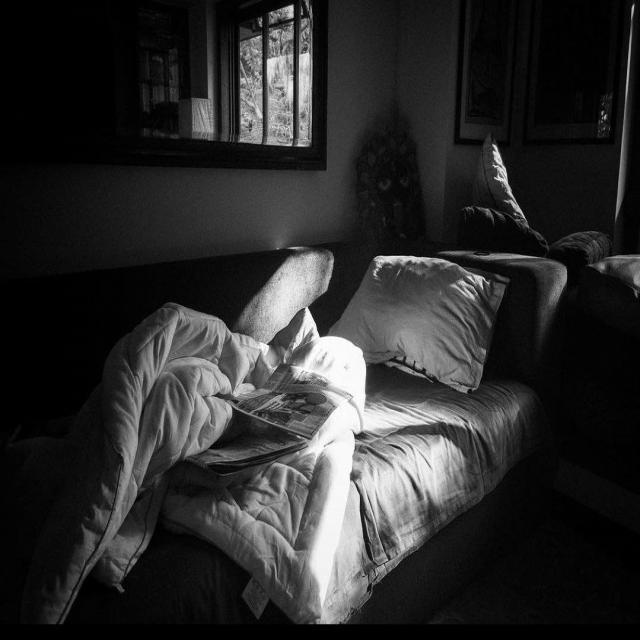bed: (58, 242, 534, 594)
